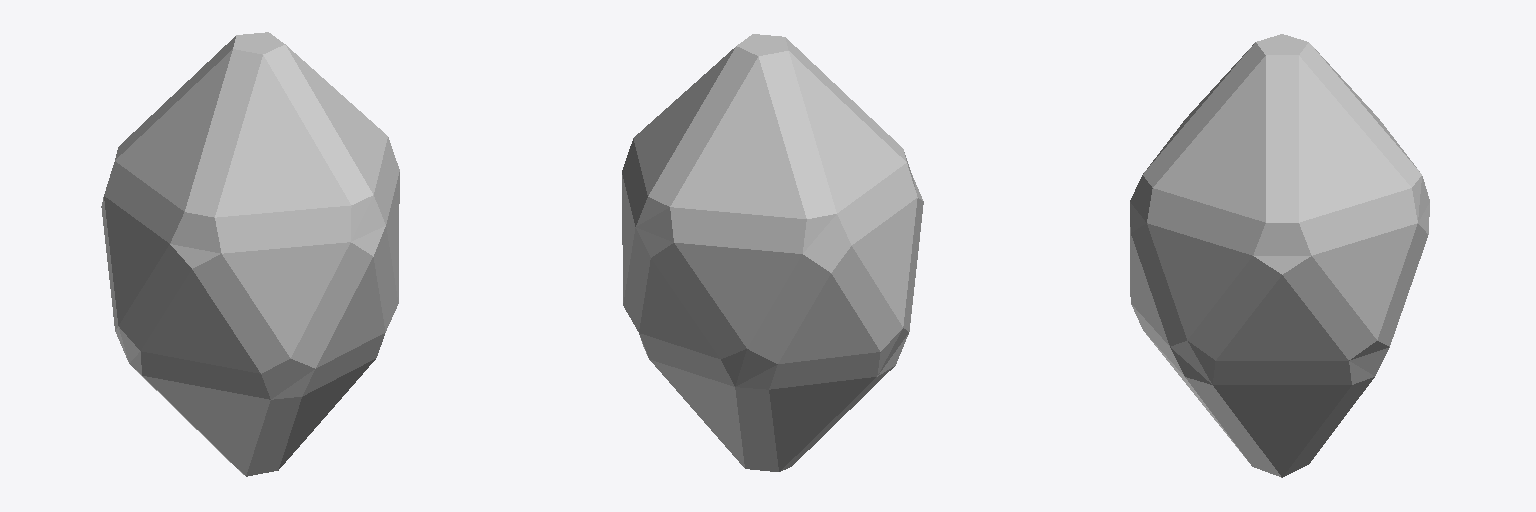
File: casa dos vagalumes.obj
3 renders of one model, left to right at view 1: azimuth 30°, elevation 25°; view 2: azimuth 150°, elevation 25°; view 3: azimuth 270°, elevation 25°, orthographic.
Visible parts, largest first — view 1: Icosphere; view 2: Icosphere; view 3: Icosphere.
Boxes of the visible parts, <box> form: Icosphere: <box>101,32,399,476</box>; Icosphere: <box>622,34,923,471</box>; Icosphere: <box>1130,34,1429,477</box>.
Size of the model in its own units: 1.68 by 2.49 by 1.6.